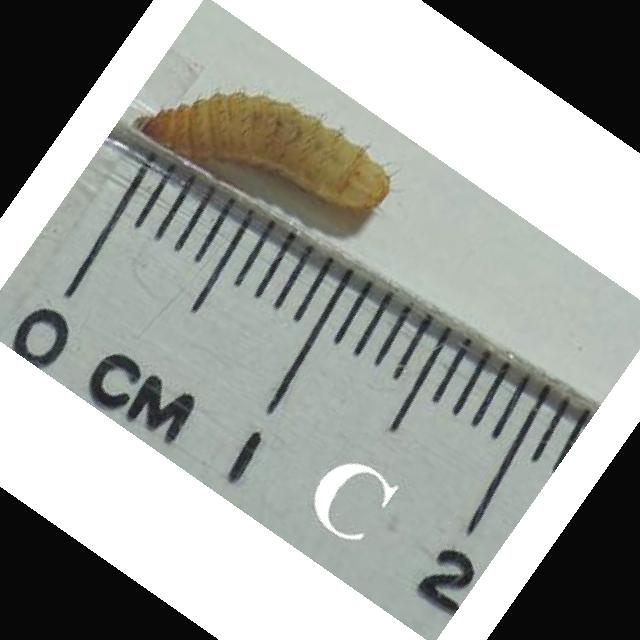Maggot: (130, 90, 397, 215)
